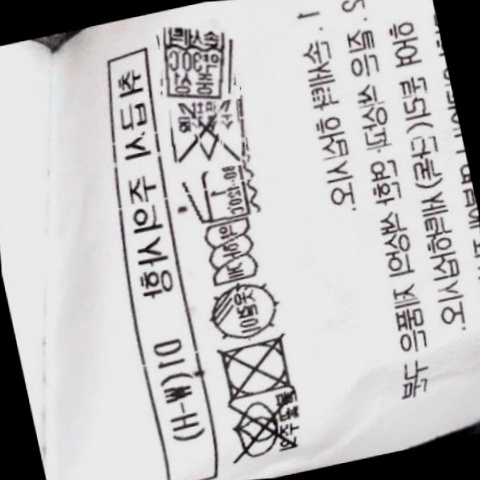DN_tumble_dry: (213, 332, 302, 402)
hand_wash: (154, 25, 238, 101)
iron_low: (184, 162, 256, 226)
line_dry_in_shade: (202, 280, 285, 342)
wring: (203, 218, 262, 288)
